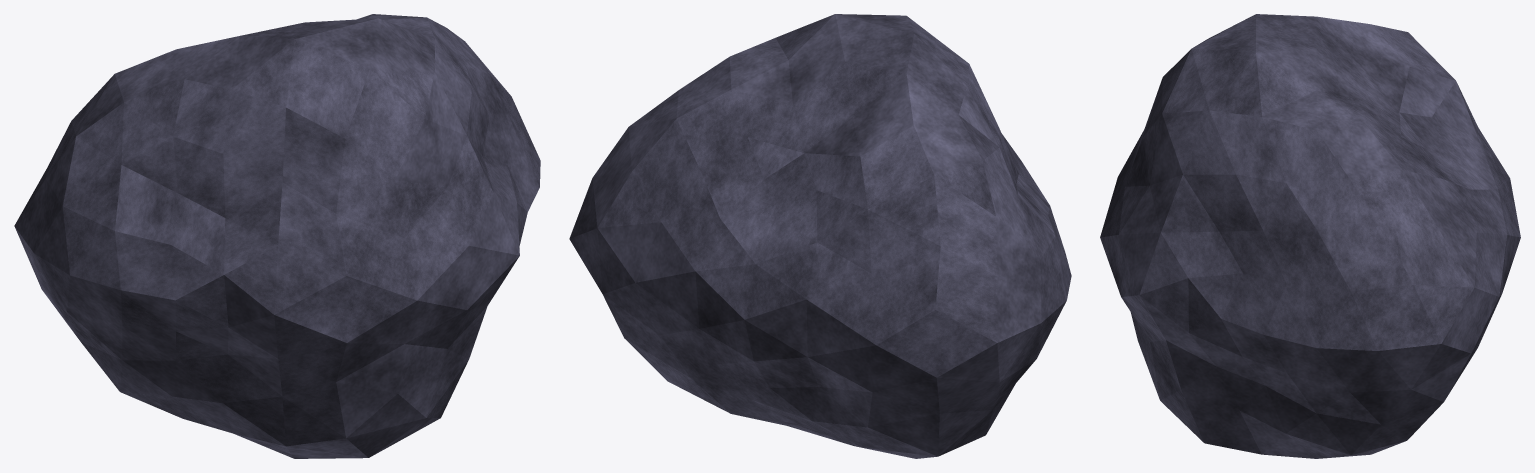
Rendered from Asteroid_Basalt_Industrial.glb.
3 renders of one model, left to right at view 1: azimuth 30°, elevation 25°; view 2: azimuth 150°, elevation 25°; view 3: azimuth 270°, elevation 25°, orthographic. The views are drawn at different scales.
Parts seen in each view (by area): view 1: Fractured rock; view 2: Fractured rock; view 3: Fractured rock.
Part boxes in pixels (x1,y1,x2,y2): Fractured rock: [14, 14, 540, 458]; Fractured rock: [569, 14, 1071, 458]; Fractured rock: [1100, 14, 1520, 458].
Size of the model in its own units: 2.31 by 1.93 by 1.82.
1 material, 1 textured.
